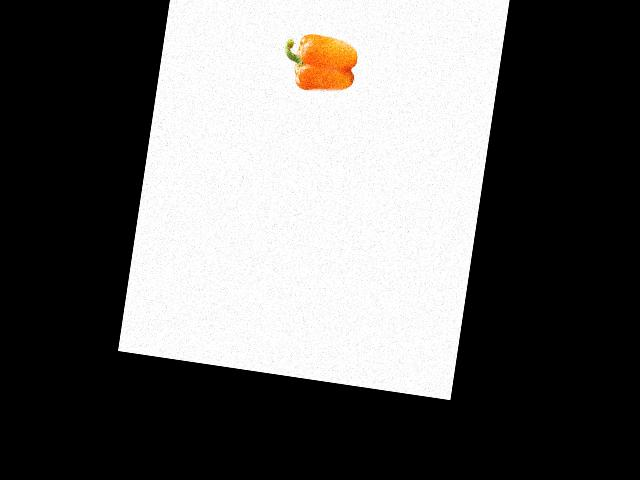bell_pepper: (278, 24, 361, 102)
